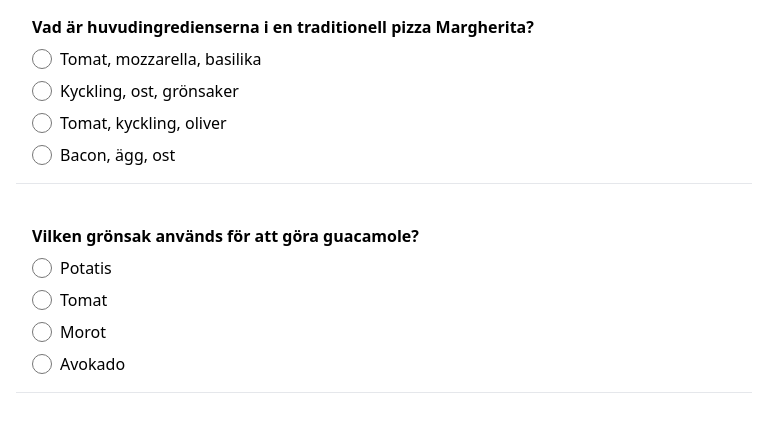
Scenario: QuizCard › visar summering när alla frågor är besvarade
The width and height of the screenshot is (769, 438).
Check: the text "Vad är huvudingredienserna i en traditionell pizza Margherita?" is shown, box [32,16,534,38]
// Svara på den första frågan
Step 1. Click the radio button labelled "Tomat, mozzarella, basilika" → (42, 59), box [32,49,52,69]
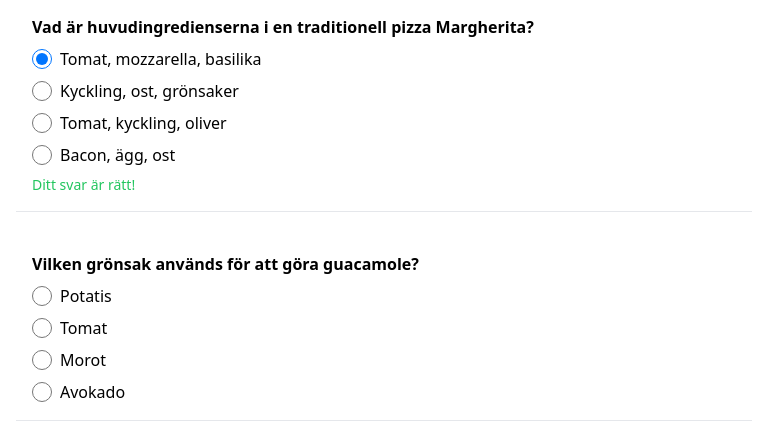
// Svara på den andra frågan
Step 2. Click the radio button labelled "Avokado" → (42, 392), box [32,382,52,402]
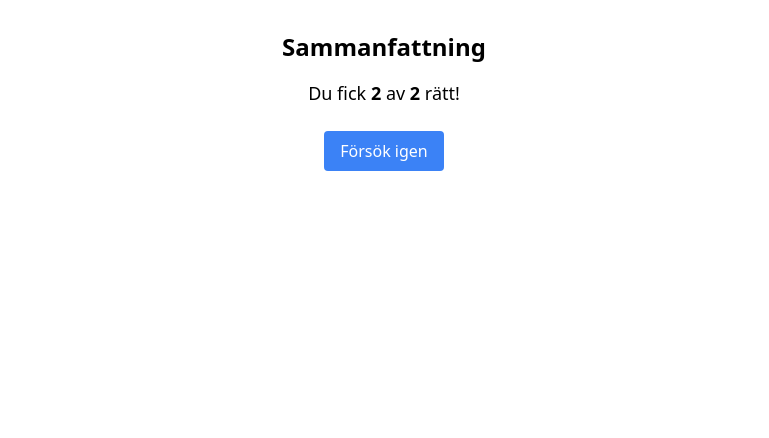
Check: the element with test id "summary" is shown, box [282,30,486,171]
Check: the heading with test id "summary-title" reads "Sammanfattning", box [282,30,486,63]
Check: the element with test id "summary-text" reads "Du fick 2 av 2 rätt!", box [308,81,460,105]
